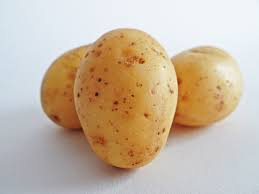potato: (80, 25, 172, 166)
